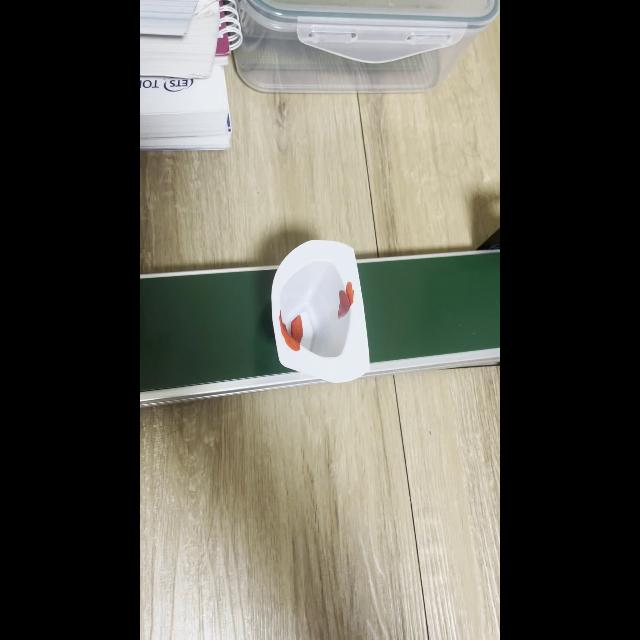dirty: (270, 240, 370, 382)
